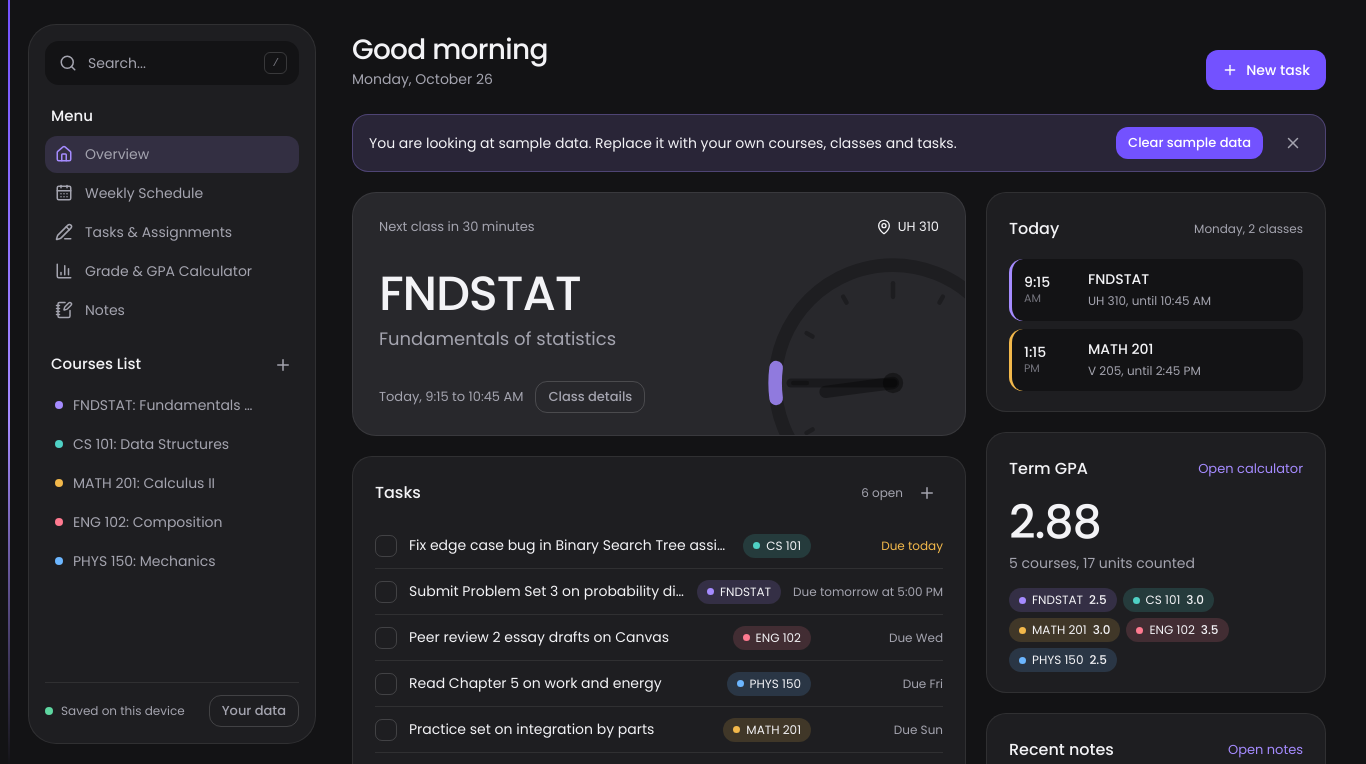
Overview › marks a task done and updates the count
This screenshot has width=1366, height=764.
Click the checkbox named "Mark done: Fix edge case bug" at (386,546), box 375,534 -> 397,556
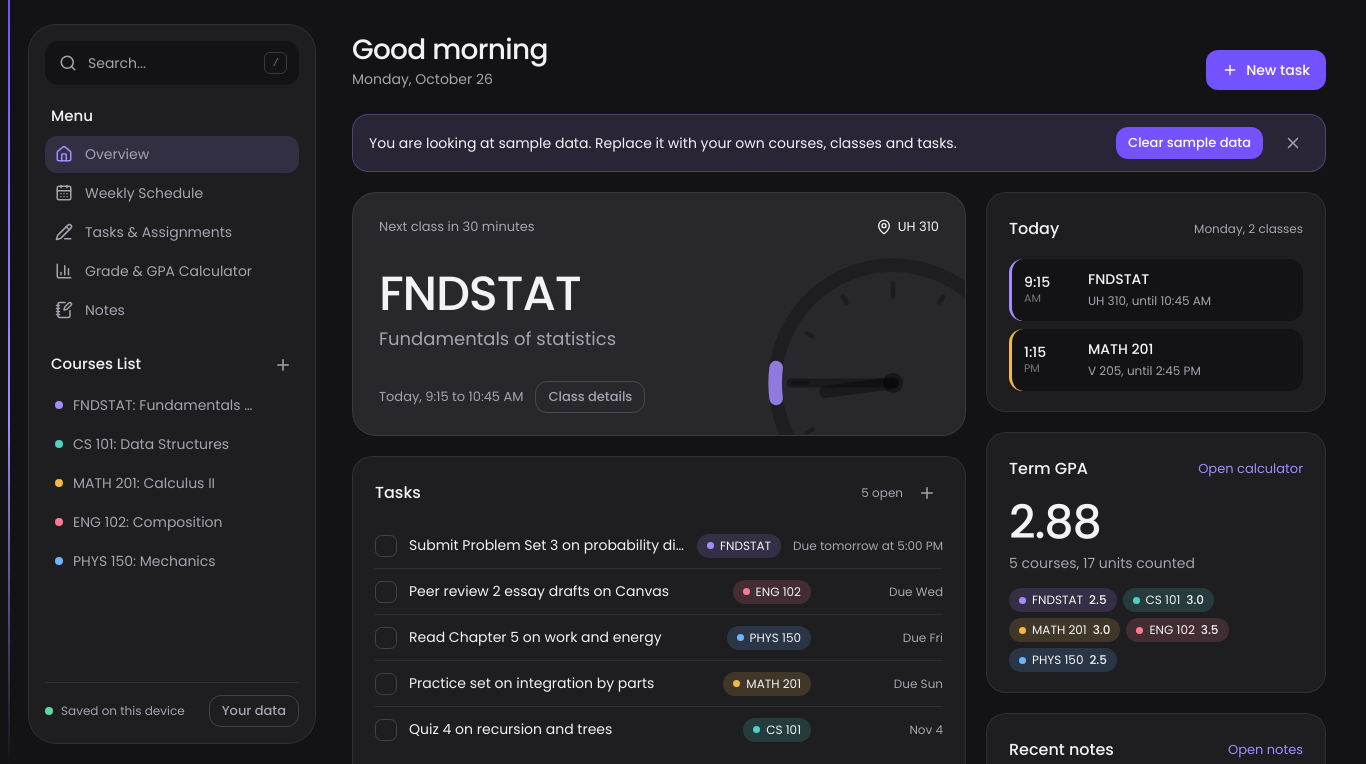
Expected: the text "5 open" is shown, 861,485 -> 903,501
